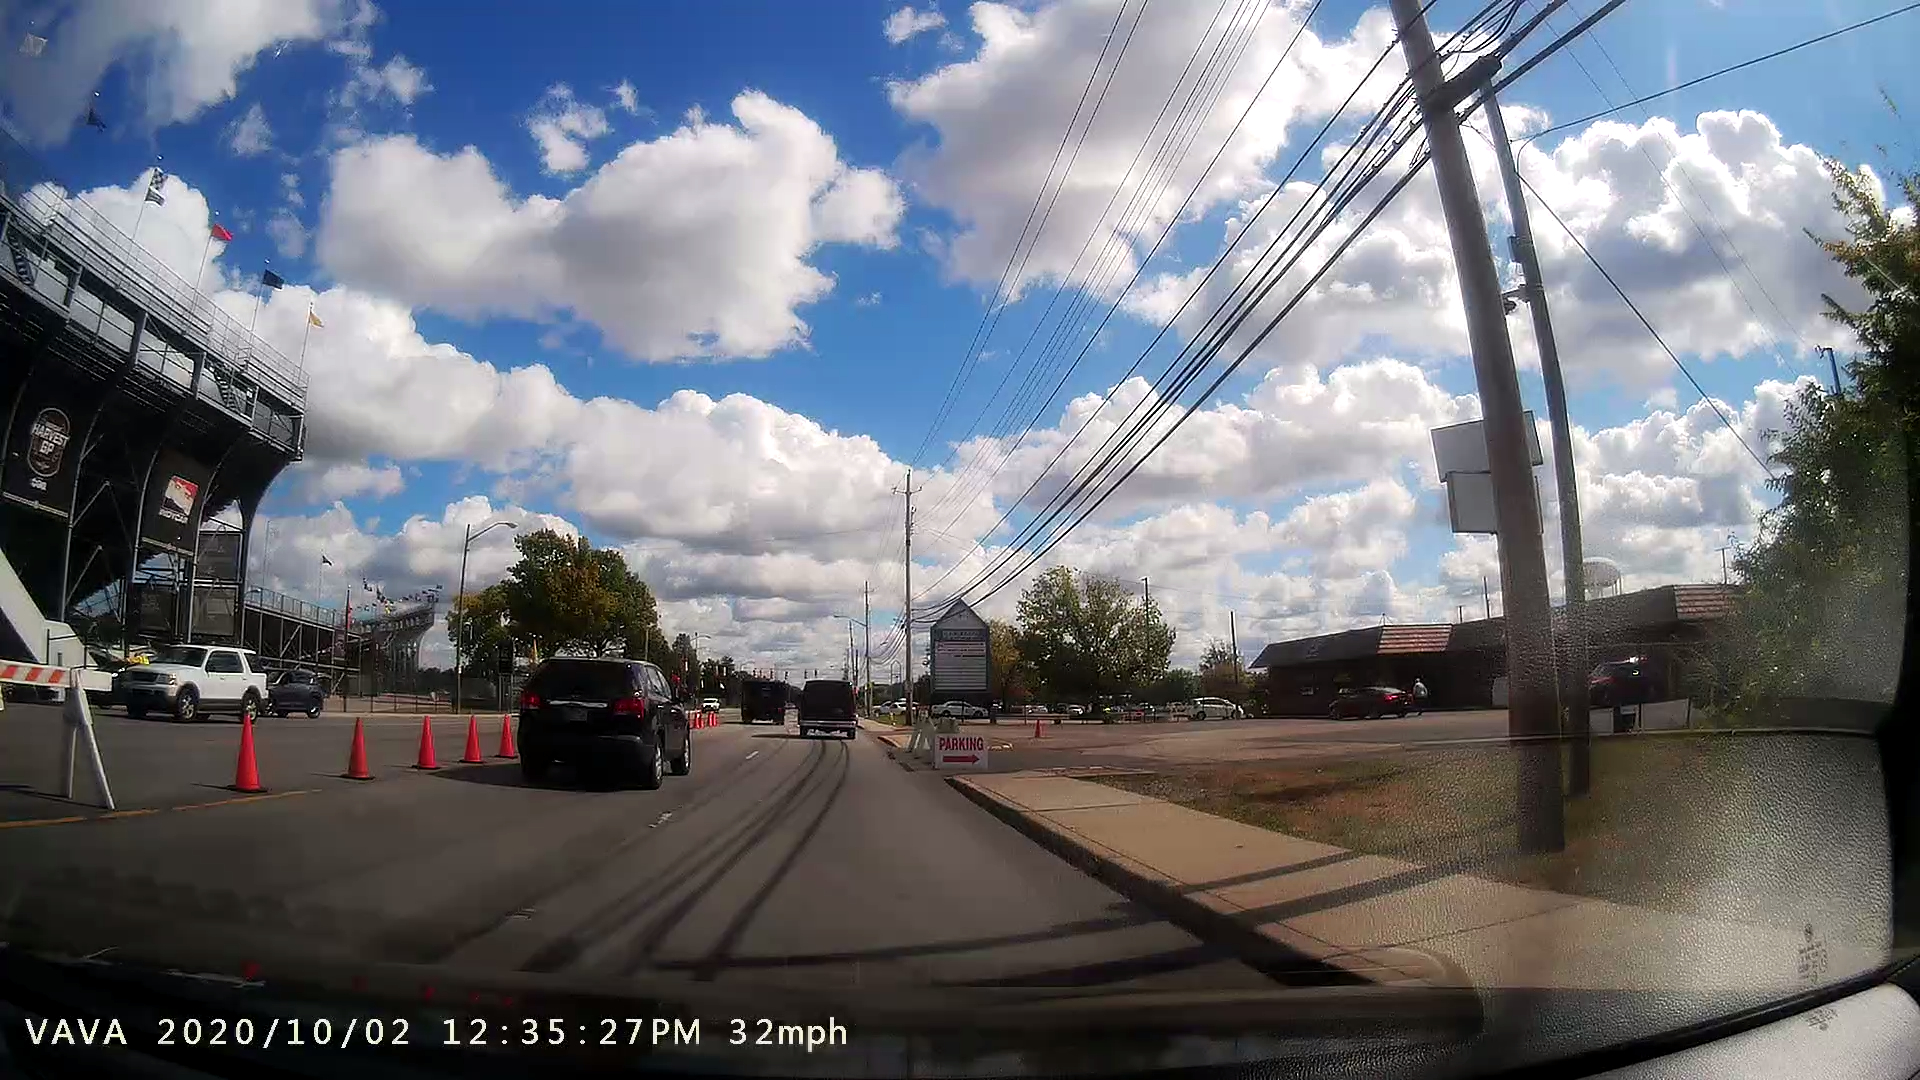const_cone: (218, 705, 280, 804), (338, 711, 376, 786), (409, 709, 448, 782), (454, 712, 489, 766), (491, 713, 521, 764)
